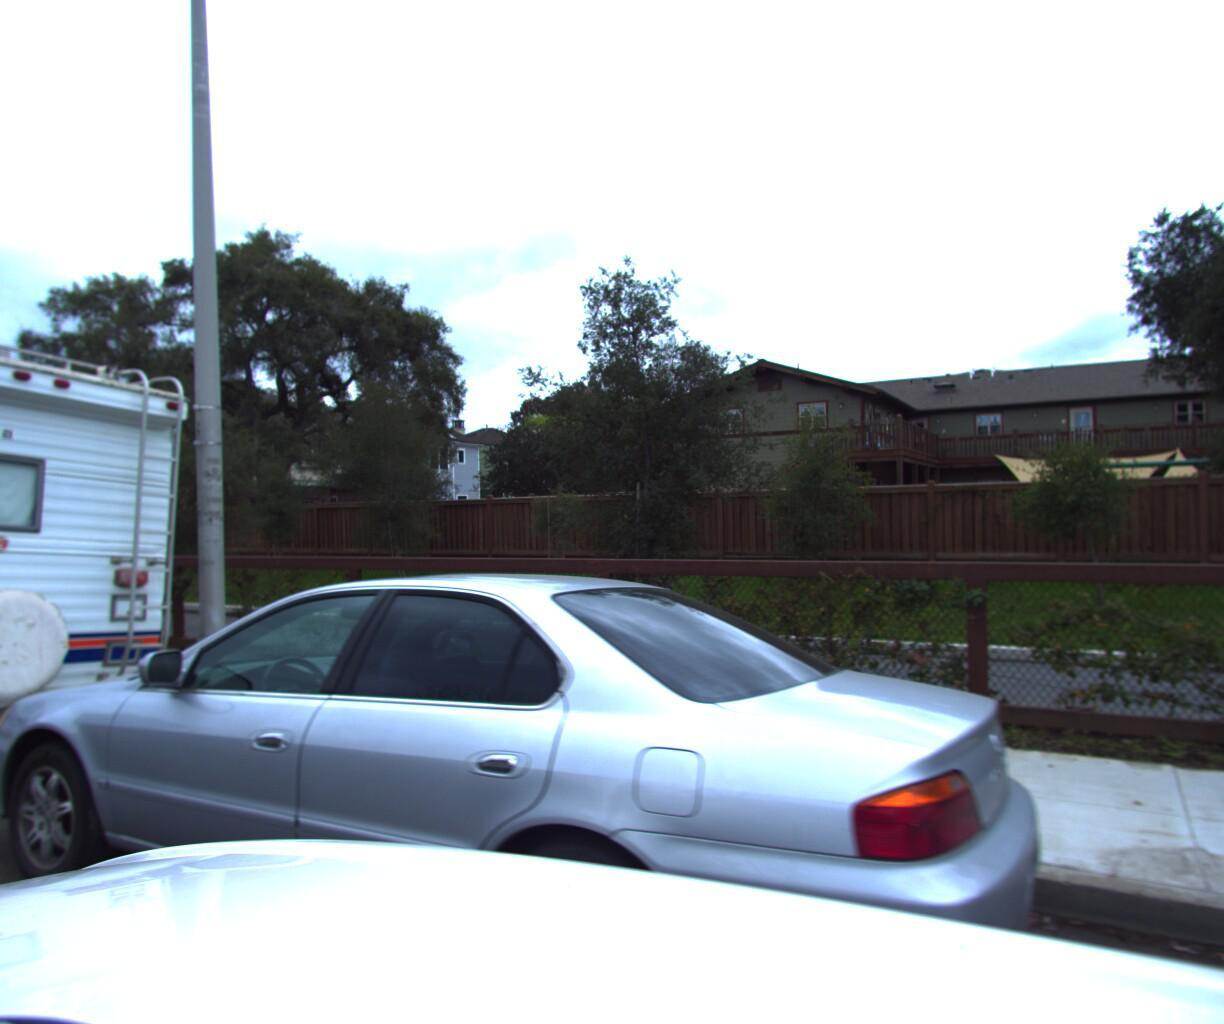car: (0, 547, 1044, 1024)
other_vehicle: (0, 283, 203, 859)
